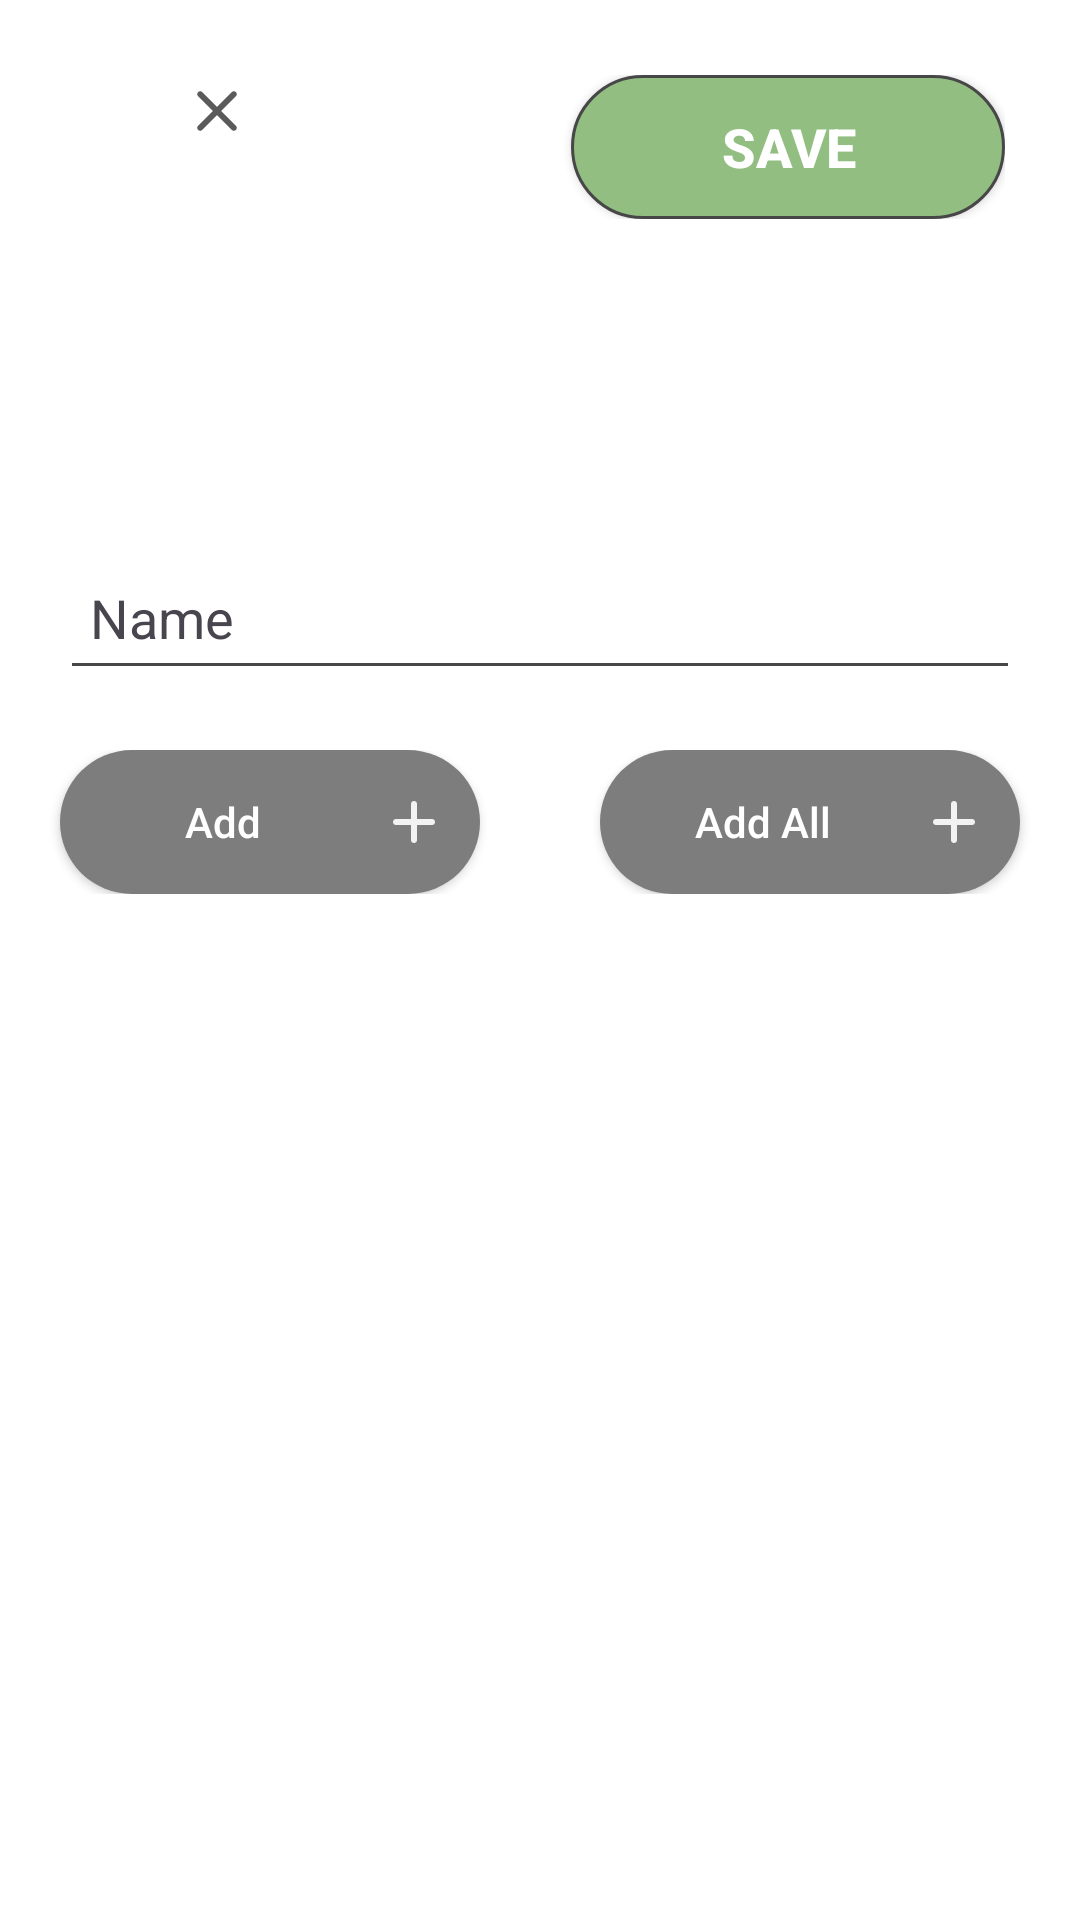

Where to tap for icons on this 1080*1920 app screen, as point (x, y):
clear: point (217, 111)
